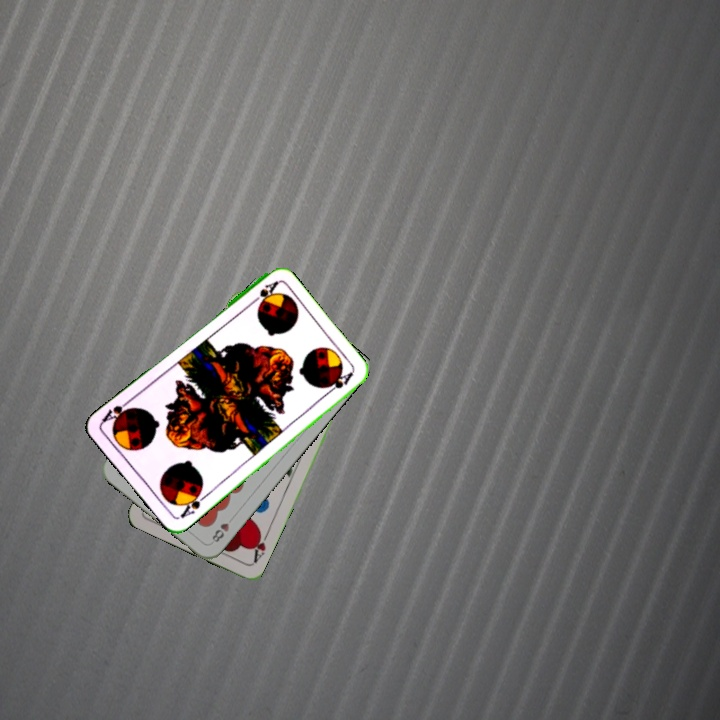H8: (208, 512, 237, 545)
HA: (248, 527, 272, 566)
SA: (176, 486, 210, 521), (246, 277, 280, 308)
